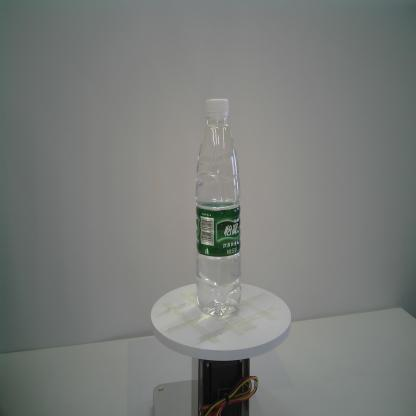Drink: (194, 97, 242, 319)
